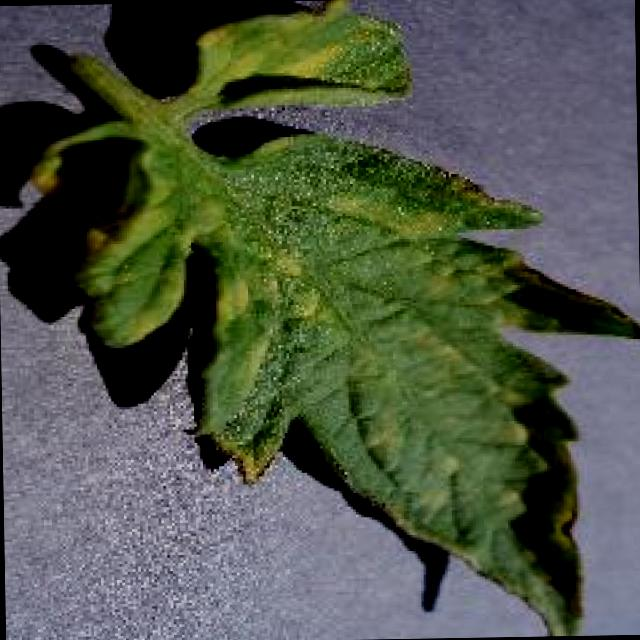leaf mold: (31, 12, 640, 636)
